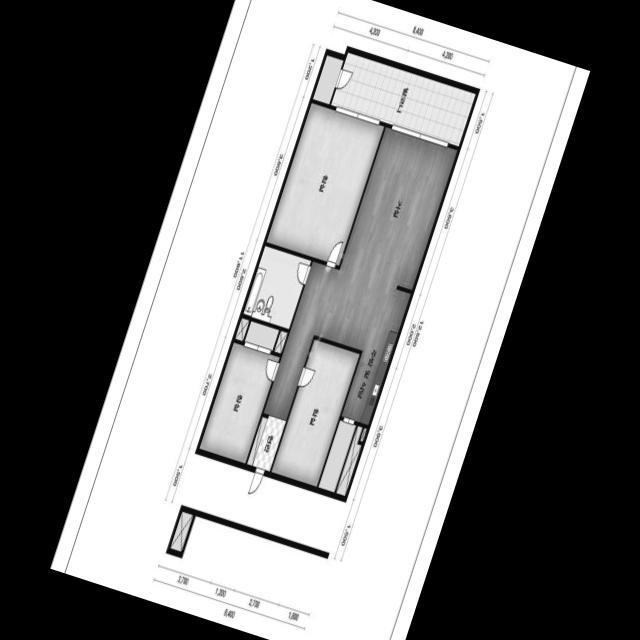background: (50, 0, 590, 640)
space_balconi: (330, 53, 475, 146)
space_bedroom: (266, 103, 384, 266), (271, 339, 359, 487), (199, 321, 279, 464)
space_front: (247, 415, 286, 472)
space_kitchen: (318, 281, 412, 493)
space_living_room: (263, 127, 457, 420)
space_other: (181, 455, 345, 553), (335, 426, 362, 496), (312, 55, 343, 105), (170, 512, 193, 552), (235, 318, 249, 341), (274, 331, 287, 354), (360, 428, 367, 442)
space_toilet: (243, 246, 311, 329)
